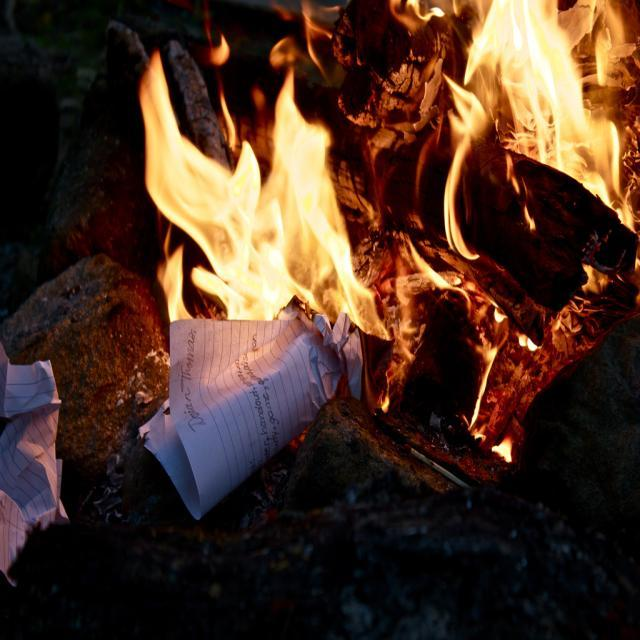Fire: (170, 153, 362, 309), (484, 0, 611, 174)
